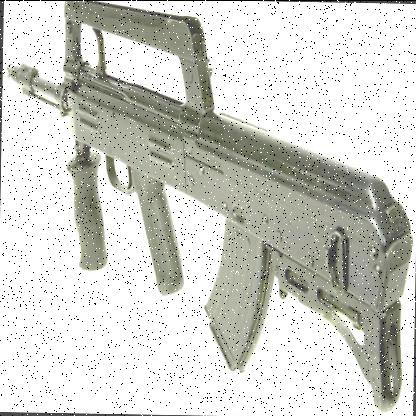rifle: (6, 0, 411, 385)
